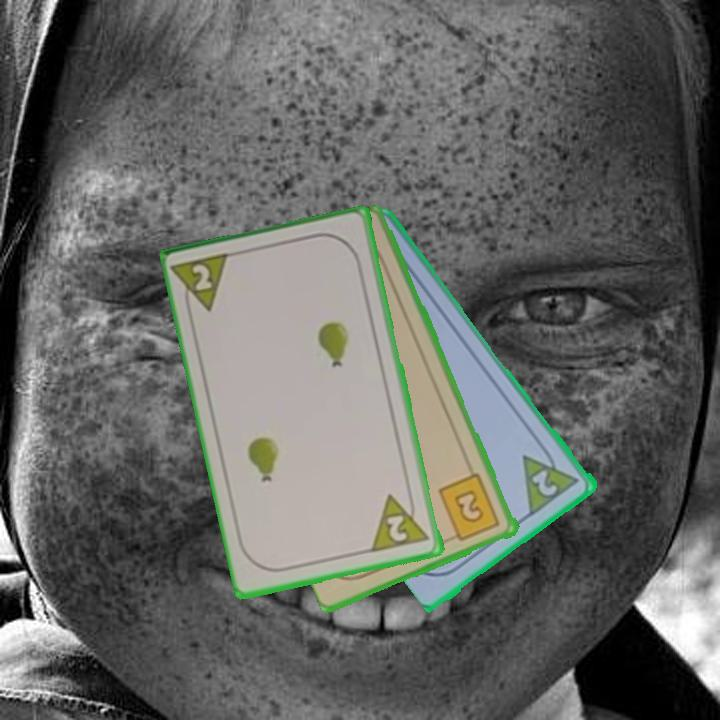2b: (435, 470, 503, 545)
2p: (368, 487, 433, 556), (171, 249, 235, 319), (528, 466, 562, 500)
